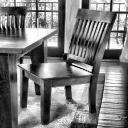chair_success: (15, 4, 118, 126)
